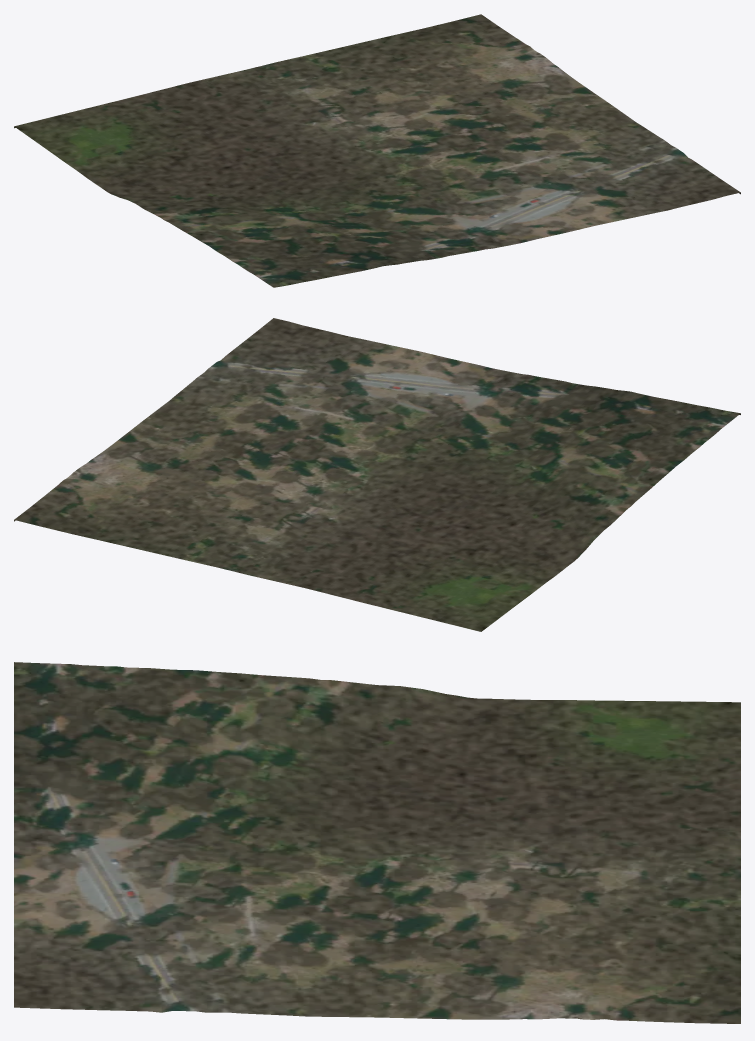
3 views of the same model, one above another, from view 1: azimuth 30°, elevation 25°; view 2: azimuth 150°, elevation 25°; view 3: azimuth 270°, elevation 25° (orthographic). The views are drawn at different scales.
Bounding box in the file's own units: 250 × 16.71 × 241.
Materials: 1 (1 with a texture image).
